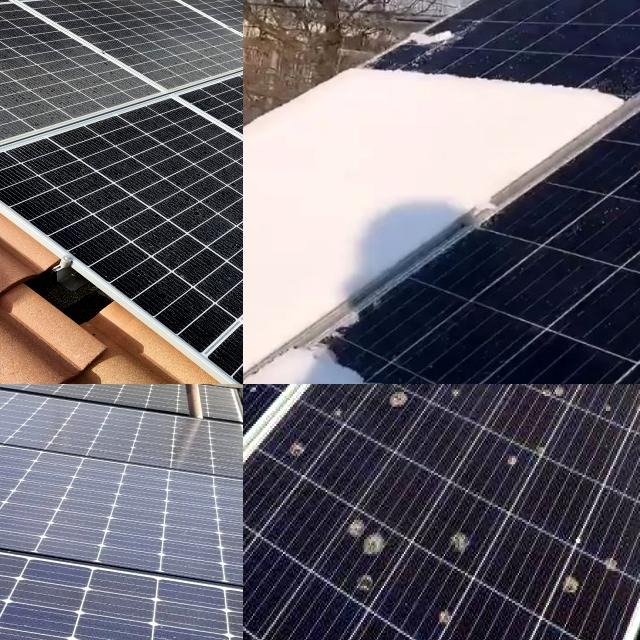bird: (343, 511, 388, 606), (548, 563, 598, 615), (383, 384, 426, 412), (531, 384, 571, 414), (284, 430, 321, 462), (433, 596, 462, 632), (448, 530, 479, 562), (243, 384, 277, 412), (331, 394, 352, 438), (243, 384, 272, 413), (502, 448, 528, 476), (600, 548, 622, 580), (598, 384, 616, 417), (256, 384, 282, 402), (630, 384, 640, 420), (471, 384, 495, 397), (243, 384, 258, 403)
dust: (125, 122, 214, 278), (0, 25, 164, 105)
panel: (247, 118, 568, 320), (376, 41, 624, 127), (494, 0, 640, 34), (384, 13, 479, 58)
